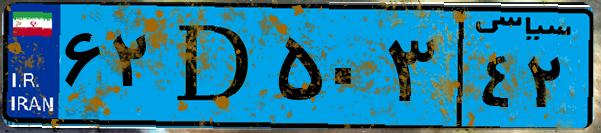0: (330, 28, 385, 110)
2: (525, 38, 570, 115), (110, 28, 158, 98)
3: (385, 28, 445, 110)
4: (475, 38, 525, 113)
5: (270, 28, 330, 110)
6: (57, 26, 110, 100)
D: (158, 12, 270, 120)
